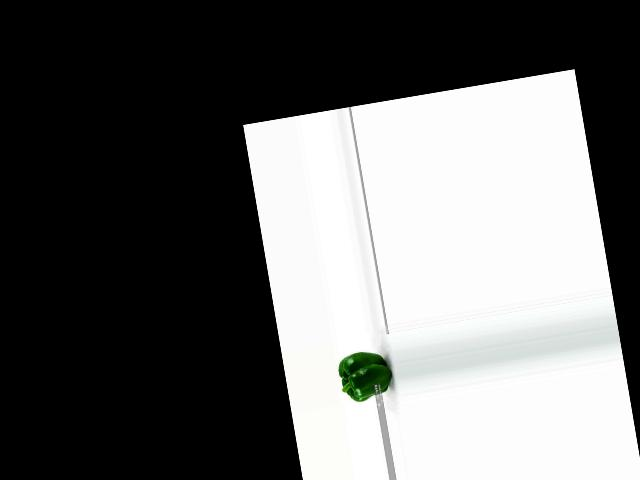bell_pepper: (333, 345, 397, 404)
